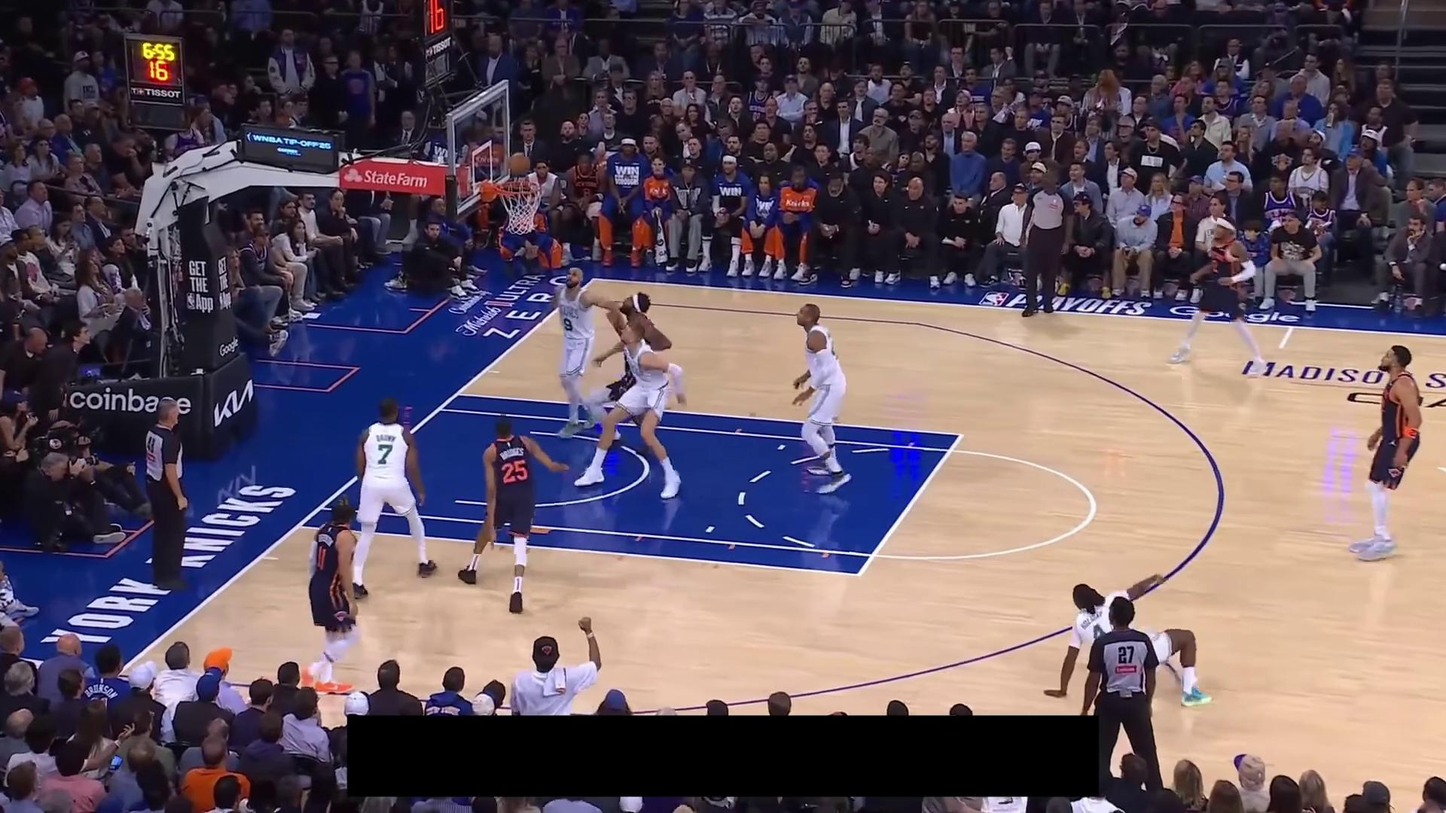ball: (508, 153, 531, 175)
number: (501, 459, 529, 485), (377, 443, 394, 465), (316, 544, 328, 571), (562, 316, 574, 333), (1210, 258, 1219, 274)
player: (1042, 570, 1213, 706), (457, 412, 570, 615), (574, 321, 686, 499), (348, 394, 440, 601), (1346, 343, 1423, 563), (1167, 214, 1268, 379), (587, 292, 673, 458), (298, 495, 362, 696), (789, 301, 854, 497), (552, 266, 622, 440)
referee: (1081, 595, 1164, 793), (143, 397, 192, 591), (1017, 164, 1075, 316)
rim: (494, 180, 541, 196)
